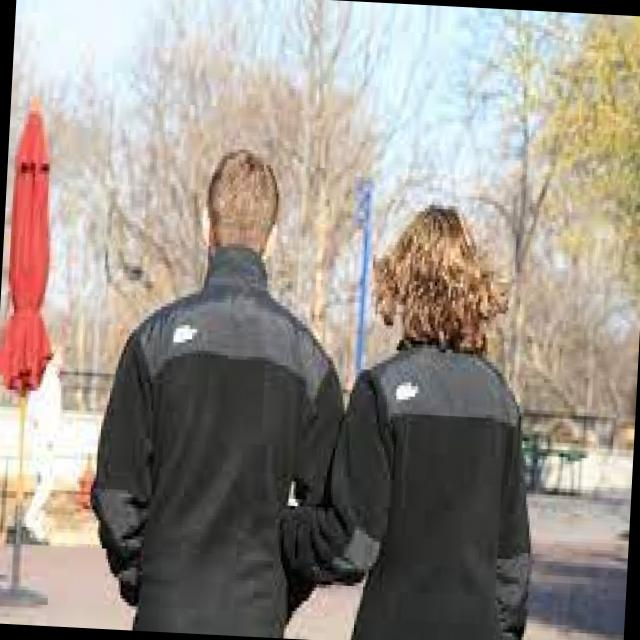Jacket: (49, 246, 323, 639), (319, 339, 532, 640)
